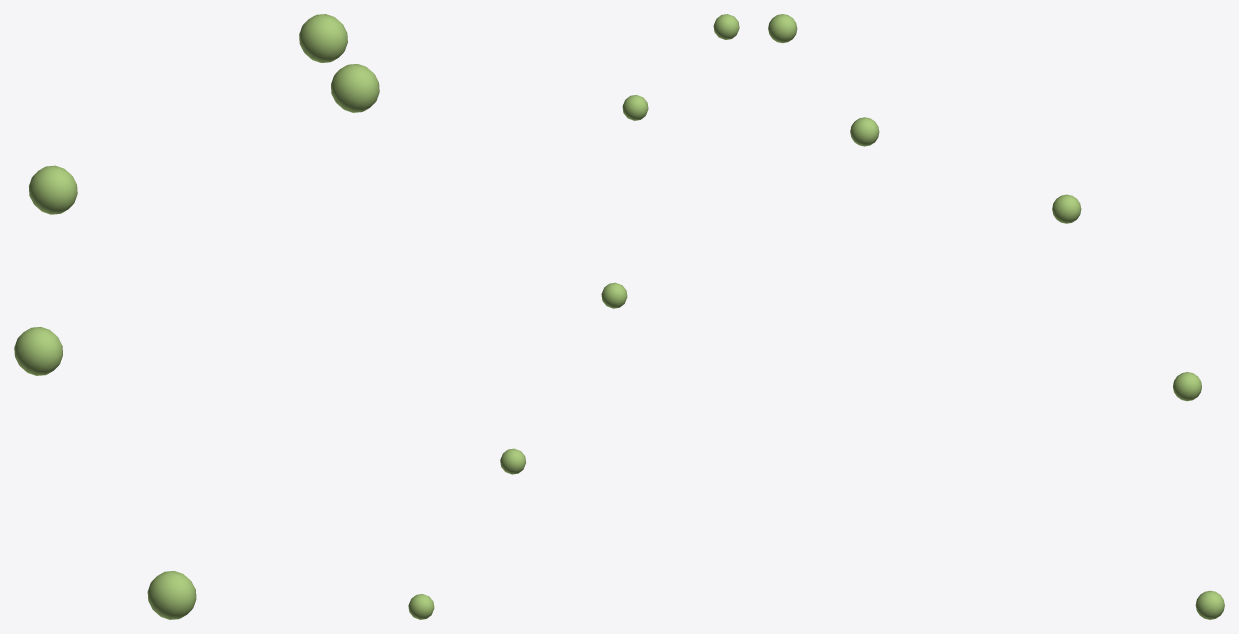
Rendered from lateral-sacral-nodes-r.glb.
3 renders of one model, left to right at view 1: azimuth 30°, elevation 25°; view 2: azimuth 150°, elevation 25°; view 3: azimuth 270°, elevation 25°, orthographic. The views are drawn at different scales.
Parts seen in each view (by area): view 1: Lateral sacral nodes.r; view 2: Lateral sacral nodes.r; view 3: Lateral sacral nodes.r.
Boxes of the visible parts, box(x1,y1,x2,y2) form: Lateral sacral nodes.r: box(14, 14, 379, 619); Lateral sacral nodes.r: box(408, 14, 739, 619); Lateral sacral nodes.r: box(768, 14, 1224, 619).
Bounding box in the file's own units: 0.0171 × 0.0531 × 0.0406.
